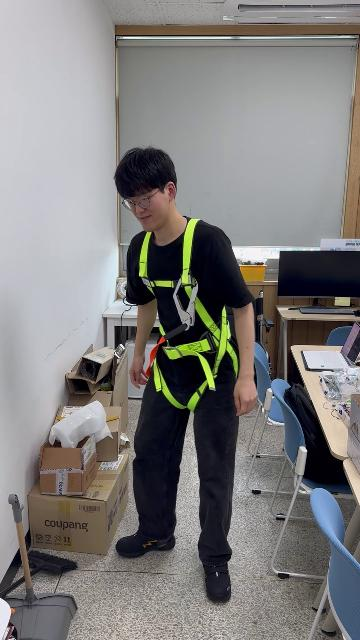helmet_not_worn: (112, 146, 179, 202)
shoe_worn: (115, 532, 175, 558), (203, 562, 231, 602)
vest_worn: (138, 226, 235, 406)
